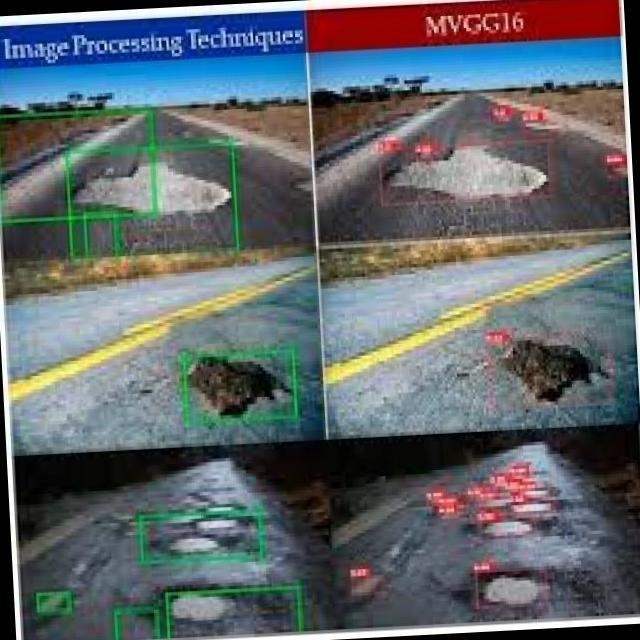Pothole: (179, 355, 290, 423), (501, 341, 591, 405), (467, 557, 552, 622), (475, 472, 554, 541)
